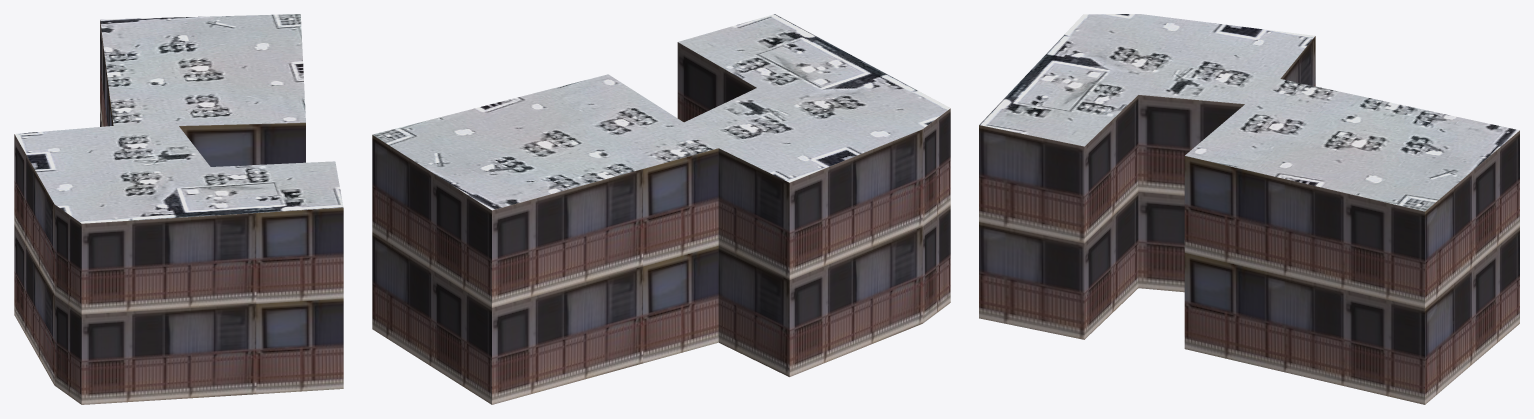
Rendered from ResTex__3311.fbx.
The picture shows the model from 3 angles, left to right: view 1: azimuth 30°, elevation 25°; view 2: azimuth 150°, elevation 25°; view 3: azimuth 270°, elevation 25°; orthographic projection. The views are drawn at different scales.
Visible parts, largest first — view 1: CityEngineMaterial_6_m, CityEngineMaterial_8_m; view 2: CityEngineMaterial_6_m, CityEngineMaterial_8_m; view 3: CityEngineMaterial_6_m, CityEngineMaterial_8_m.
Boxes of the visible parts, left/top/right/bottom form: CityEngineMaterial_6_m: left=14, top=20, right=343, bottom=404; CityEngineMaterial_8_m: left=14, top=14, right=343, bottom=223; CityEngineMaterial_6_m: left=372, top=42, right=950, bottom=404; CityEngineMaterial_8_m: left=372, top=14, right=950, bottom=210; CityEngineMaterial_6_m: left=979, top=36, right=1519, bottom=404; CityEngineMaterial_8_m: left=979, top=14, right=1519, bottom=211.
Bounding box in the file's own units: 13.15 × 6 × 15.21.
2 materials, 2 textured.
